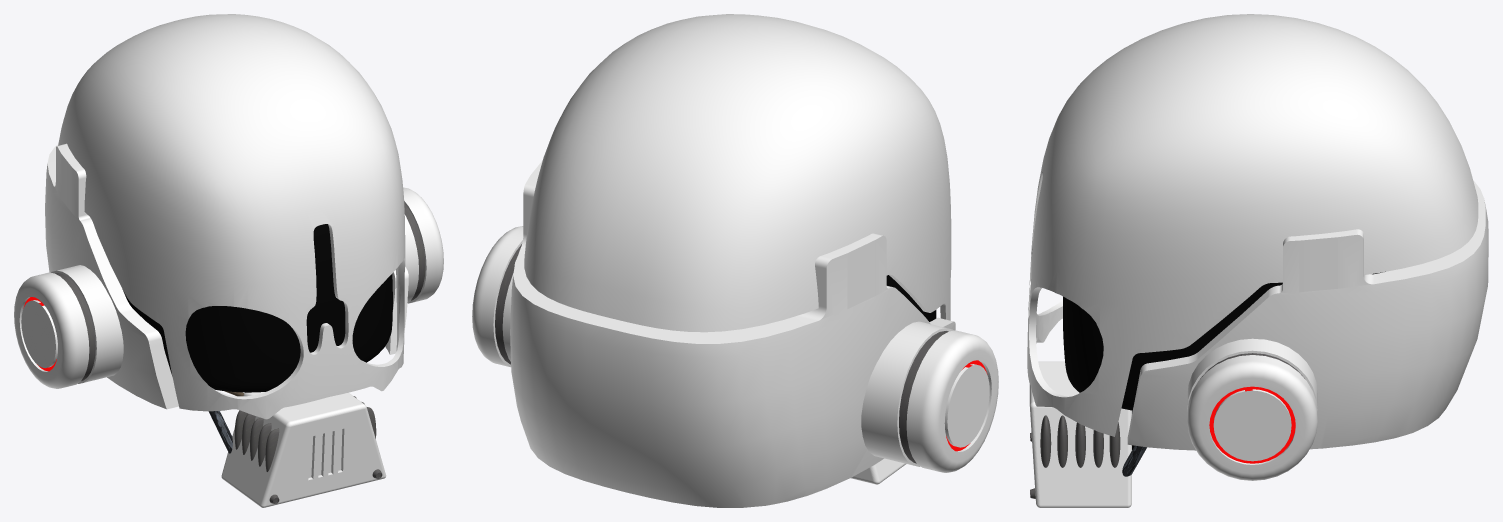
File: Robot4.glb
The picture shows the model from 3 angles, left to right: view 1: azimuth 30°, elevation 25°; view 2: azimuth 150°, elevation 25°; view 3: azimuth 270°, elevation 25°; orthographic projection. The views are drawn at different scales.
Parts seen in each view (by area): view 1: Head, Ears, Inner Head, Mouth, Rear Head, Grid; view 2: Head, Rear Head, Ears, Mouth; view 3: Head, Rear Head, Ears, Mouth, Inner Head, Grid.
Boxes of the visible parts, x1,y1,x2,y2 form: Head: [58, 14, 405, 419]; Ears: [14, 187, 443, 388]; Inner Head: [122, 224, 392, 392]; Mouth: [221, 392, 386, 507]; Rear Head: [45, 143, 408, 409]; Grid: [234, 396, 376, 471]; Head: [524, 14, 951, 332]; Rear Head: [510, 161, 955, 507]; Ears: [472, 226, 998, 472]; Mouth: [850, 458, 905, 484]; Head: [1027, 14, 1478, 436]; Rear Head: [1127, 180, 1488, 450]; Ears: [1187, 338, 1317, 480]; Mouth: [1029, 361, 1131, 507]; Inner Head: [1063, 271, 1385, 410]; Grid: [1040, 415, 1120, 467].
Bounding box in the file's own units: 4.27 × 4.17 × 3.98.
10 materials, 4 textured.
